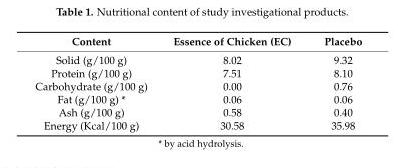table: (34, 34, 361, 131)
table column: (159, 34, 306, 131), (34, 34, 159, 131), (306, 34, 361, 131)
table column header: (34, 34, 361, 50)
table row: (34, 34, 361, 50), (34, 50, 361, 66), (34, 66, 361, 79), (34, 79, 361, 92), (34, 92, 361, 105), (34, 105, 361, 118), (34, 118, 361, 131)
